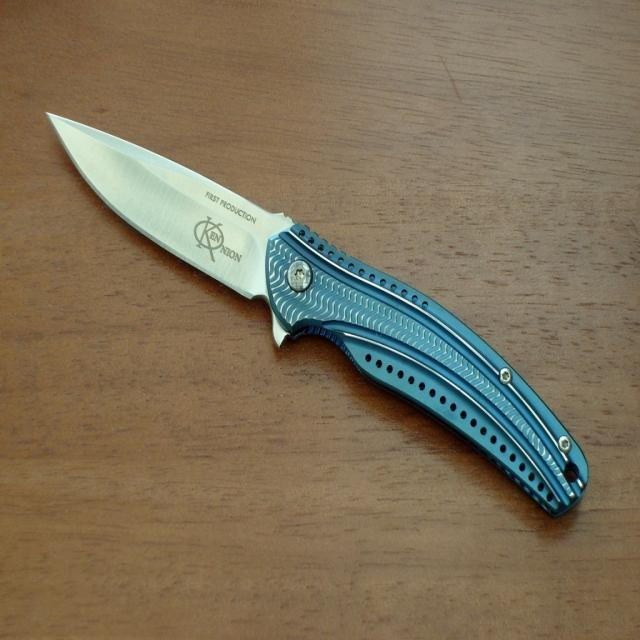Knife: (49, 114, 589, 514)
